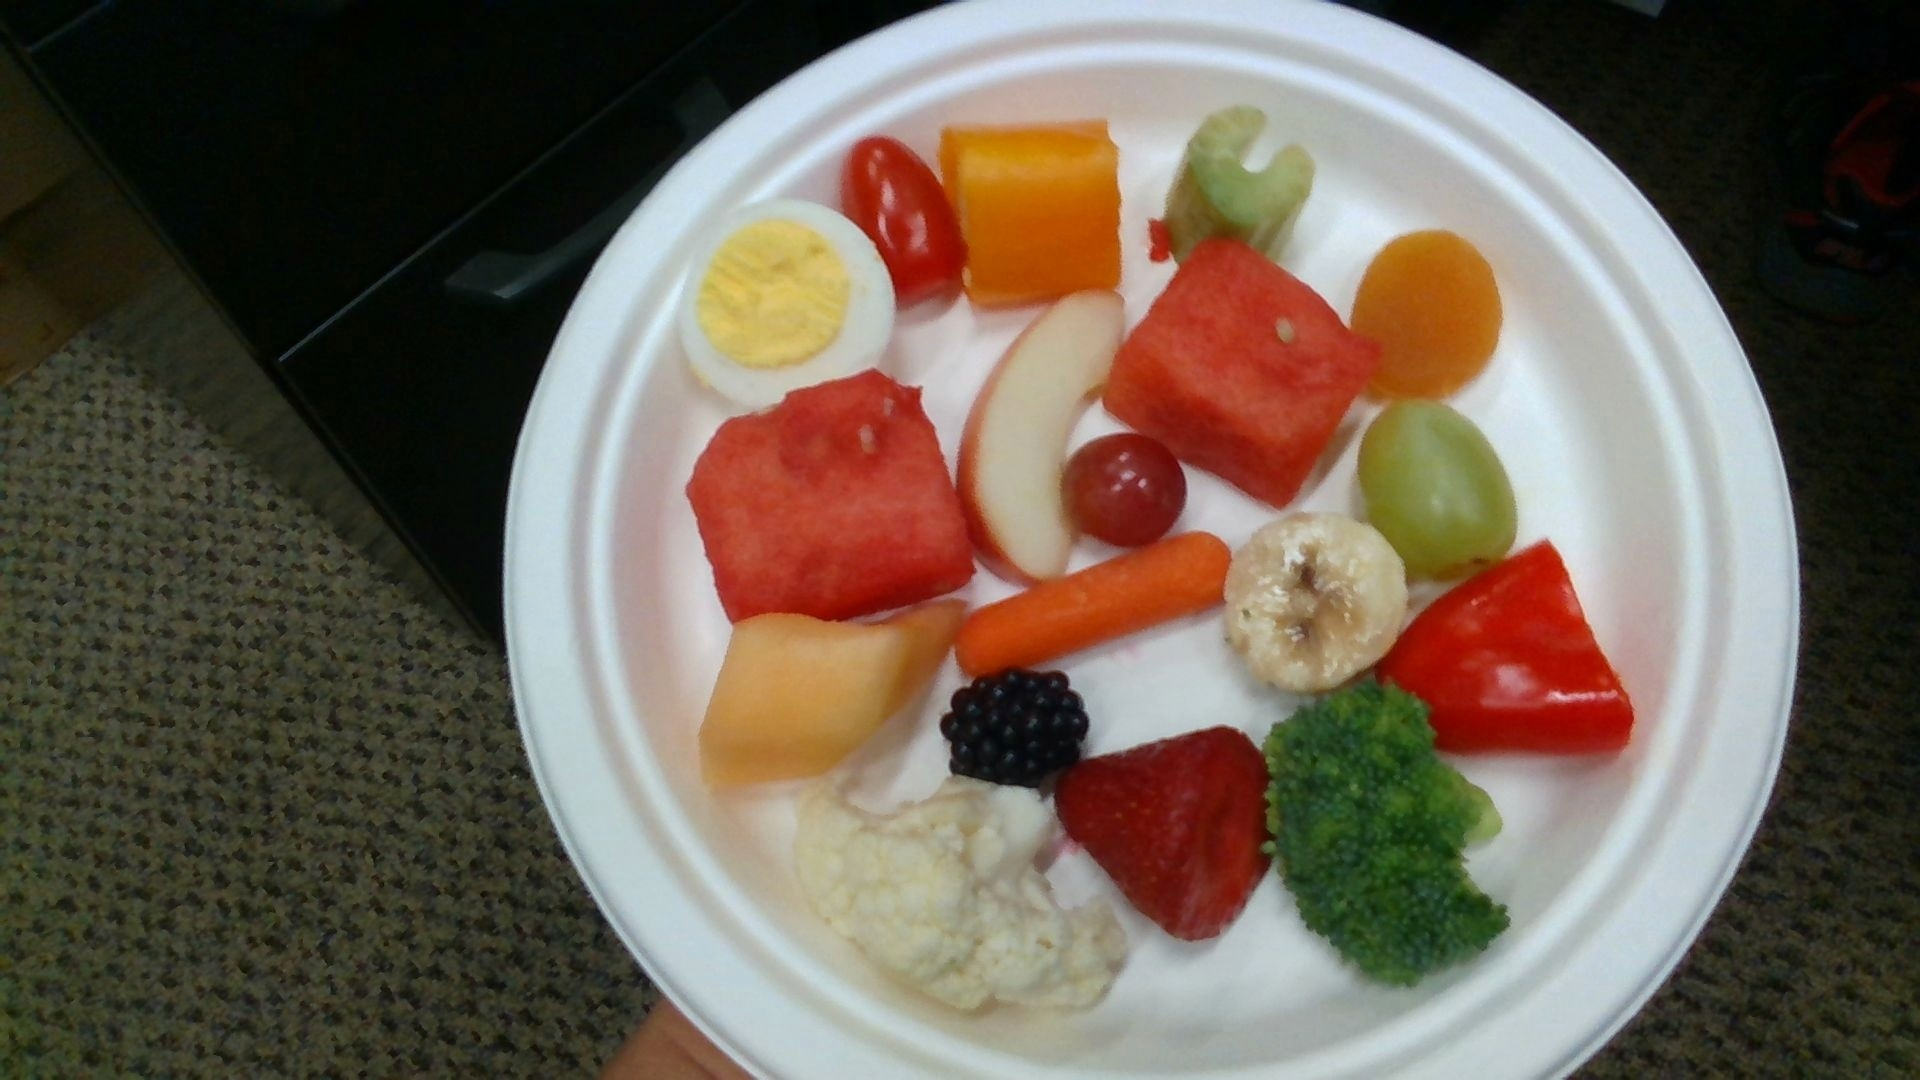apple: (960, 291, 1124, 580)
apricot: (1354, 233, 1501, 398)
banana: (1224, 513, 1404, 688)
bell_pepper: (1379, 543, 1634, 756), (942, 120, 1122, 306)
blackberry: (945, 673, 1091, 781)
broccoli: (1265, 686, 1513, 988)
cantalope: (699, 605, 959, 790)
carrot: (959, 535, 1230, 671)
cauliflower: (795, 786, 1124, 1011)
celery: (1164, 108, 1312, 262)
cherry_tomato: (843, 138, 959, 306)
egg: (676, 198, 897, 404)
grape_green: (1362, 401, 1516, 574)
grape_purple: (1064, 436, 1187, 545)
melon: (687, 371, 975, 618), (1106, 241, 1370, 505)
strawberry: (1058, 731, 1267, 936)
